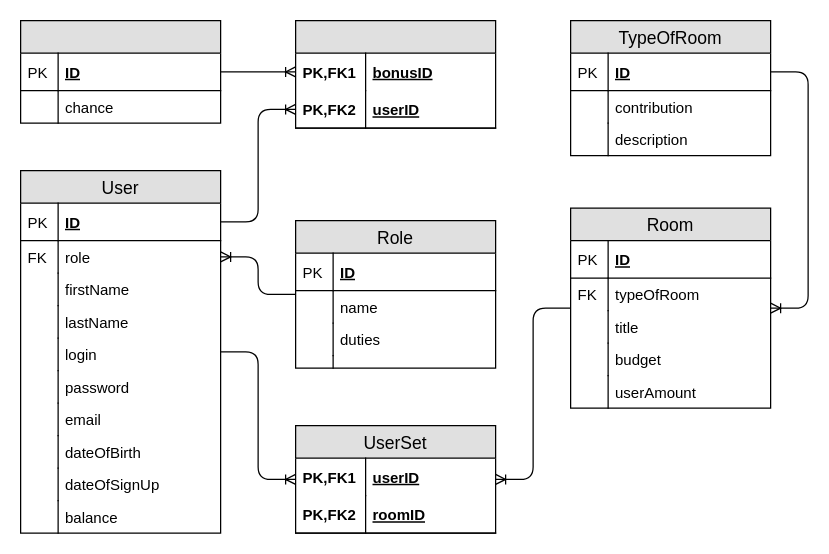
Image size: 829x554. Some labels were removed from this diagram. The box of each missing label's shape, as (x1, y1, x2, y2) in pixels:
BonusPolicies: (19, 19, 221, 123)
BonusUser: (294, 19, 496, 128)
